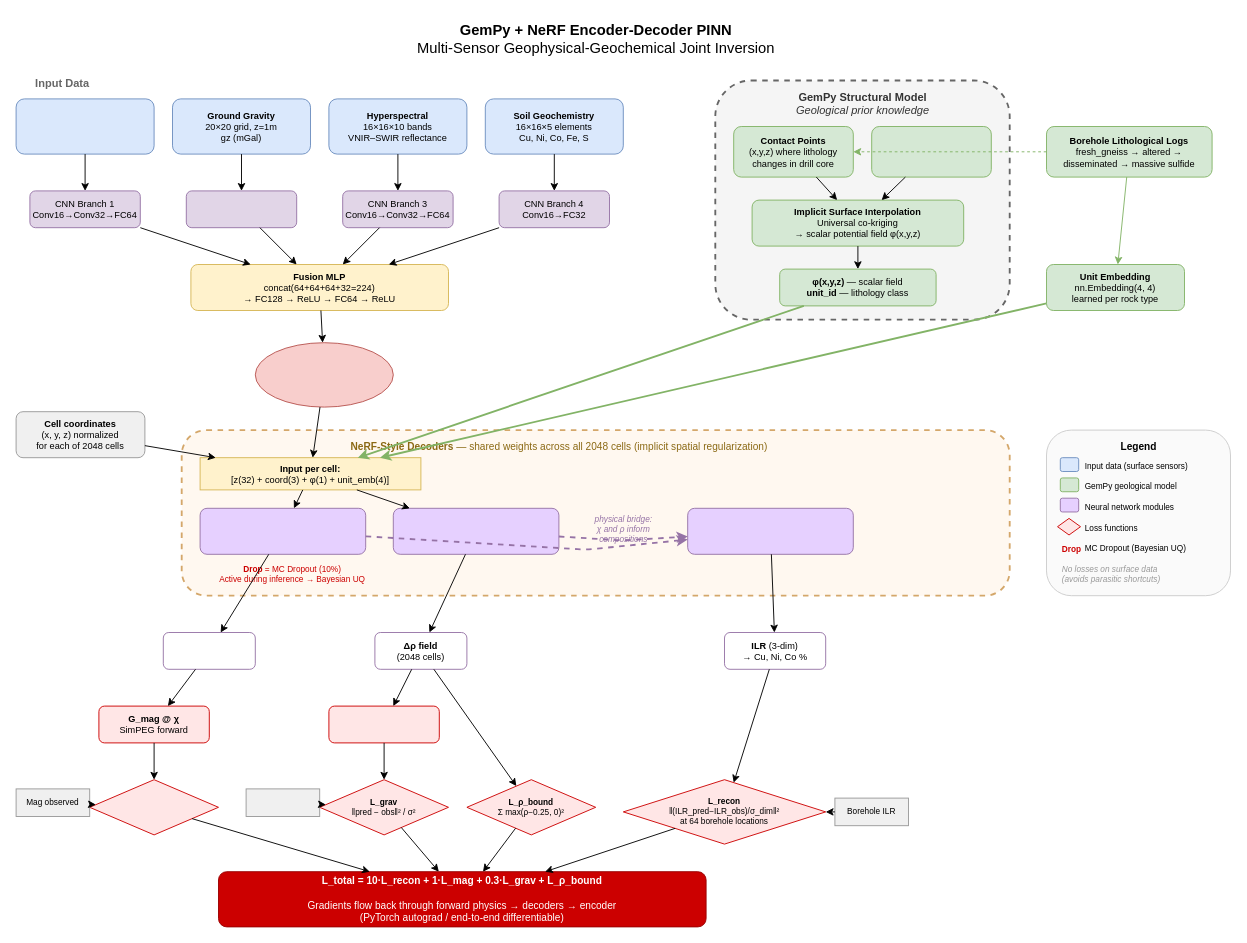
The diagram is 1247 pixels wide and 943 high, and some of its shapes have lost their labels. The shapes that lost their labels are listed below. From the top down, each one's centre as x and y in pixels, then its label:
At point (84, 126): "Airborne Magnetics 20×20 grid, z=80m TMI (nT)".
At point (931, 151): "Orientations Dip/strike of layers (pole vectors)".
At point (241, 209): "CNN Branch 2 Conv16→Conv32→FC64".
At point (323, 374): "Latent z (32-dim) μ = FC(64→32) deterministic: z = μ".
At point (282, 530): "Decoder χ FC128→ Drop →FC64→ Drop →FC32 → softplus × 0.01".
At point (475, 530): "Decoder Δρ FC128→ Drop →FC64→ Drop →FC32 → softplus × 0.1".
At point (770, 530): "Decoder ILR [...+ χ×100 + ρ×10] FC64→ Drop →FC32→ Drop →FC3".
At point (208, 650): "χ field (2048 cells)".
At point (383, 724): "G_grav @ Δρ SimPEG forward".
At point (153, 807): "L_mag ‖pred − obs‖² / σ²".
At point (282, 802): "Grav observed".
